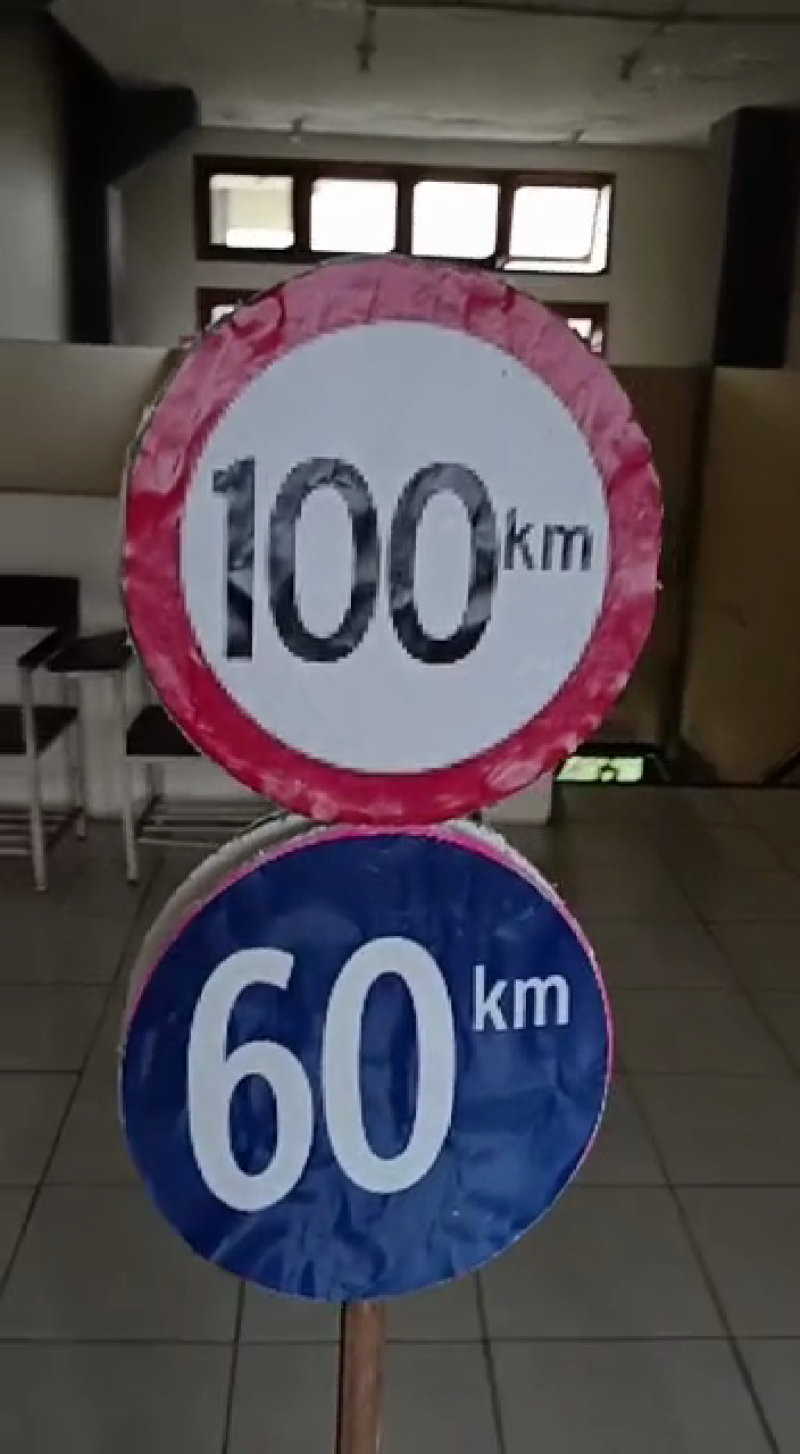batas maksimal 100kmperjam minimal 60kmperjam: (100, 245, 681, 1316)
